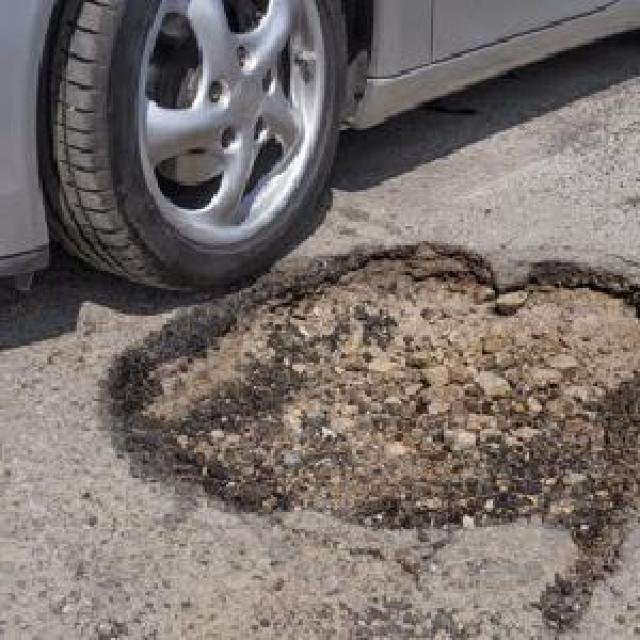Pothole: (101, 238, 640, 537)
